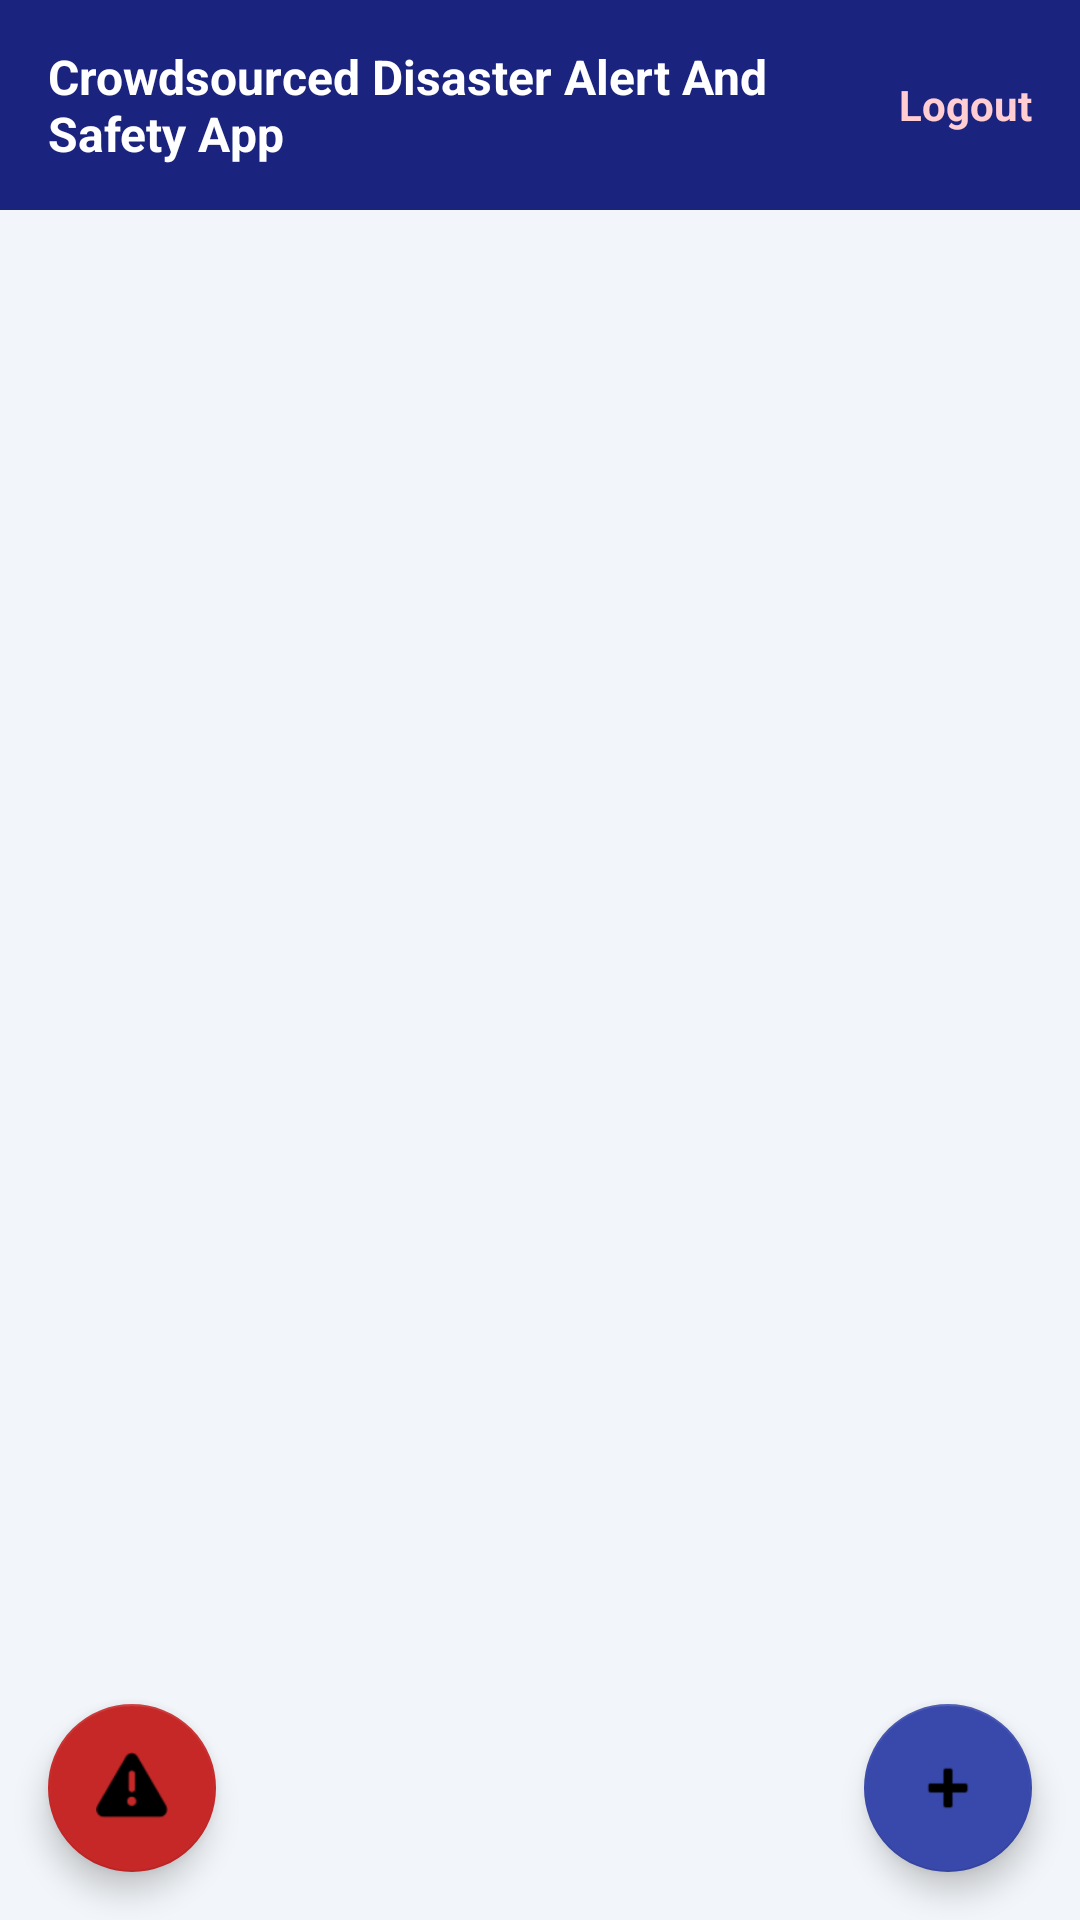

Where icons sit on this 1080 × 1920 app screen, as rect(x1, y1, x2, y2):
add: rect(864, 1704, 1032, 1872)
SOS Emergency: rect(48, 1704, 216, 1872)
